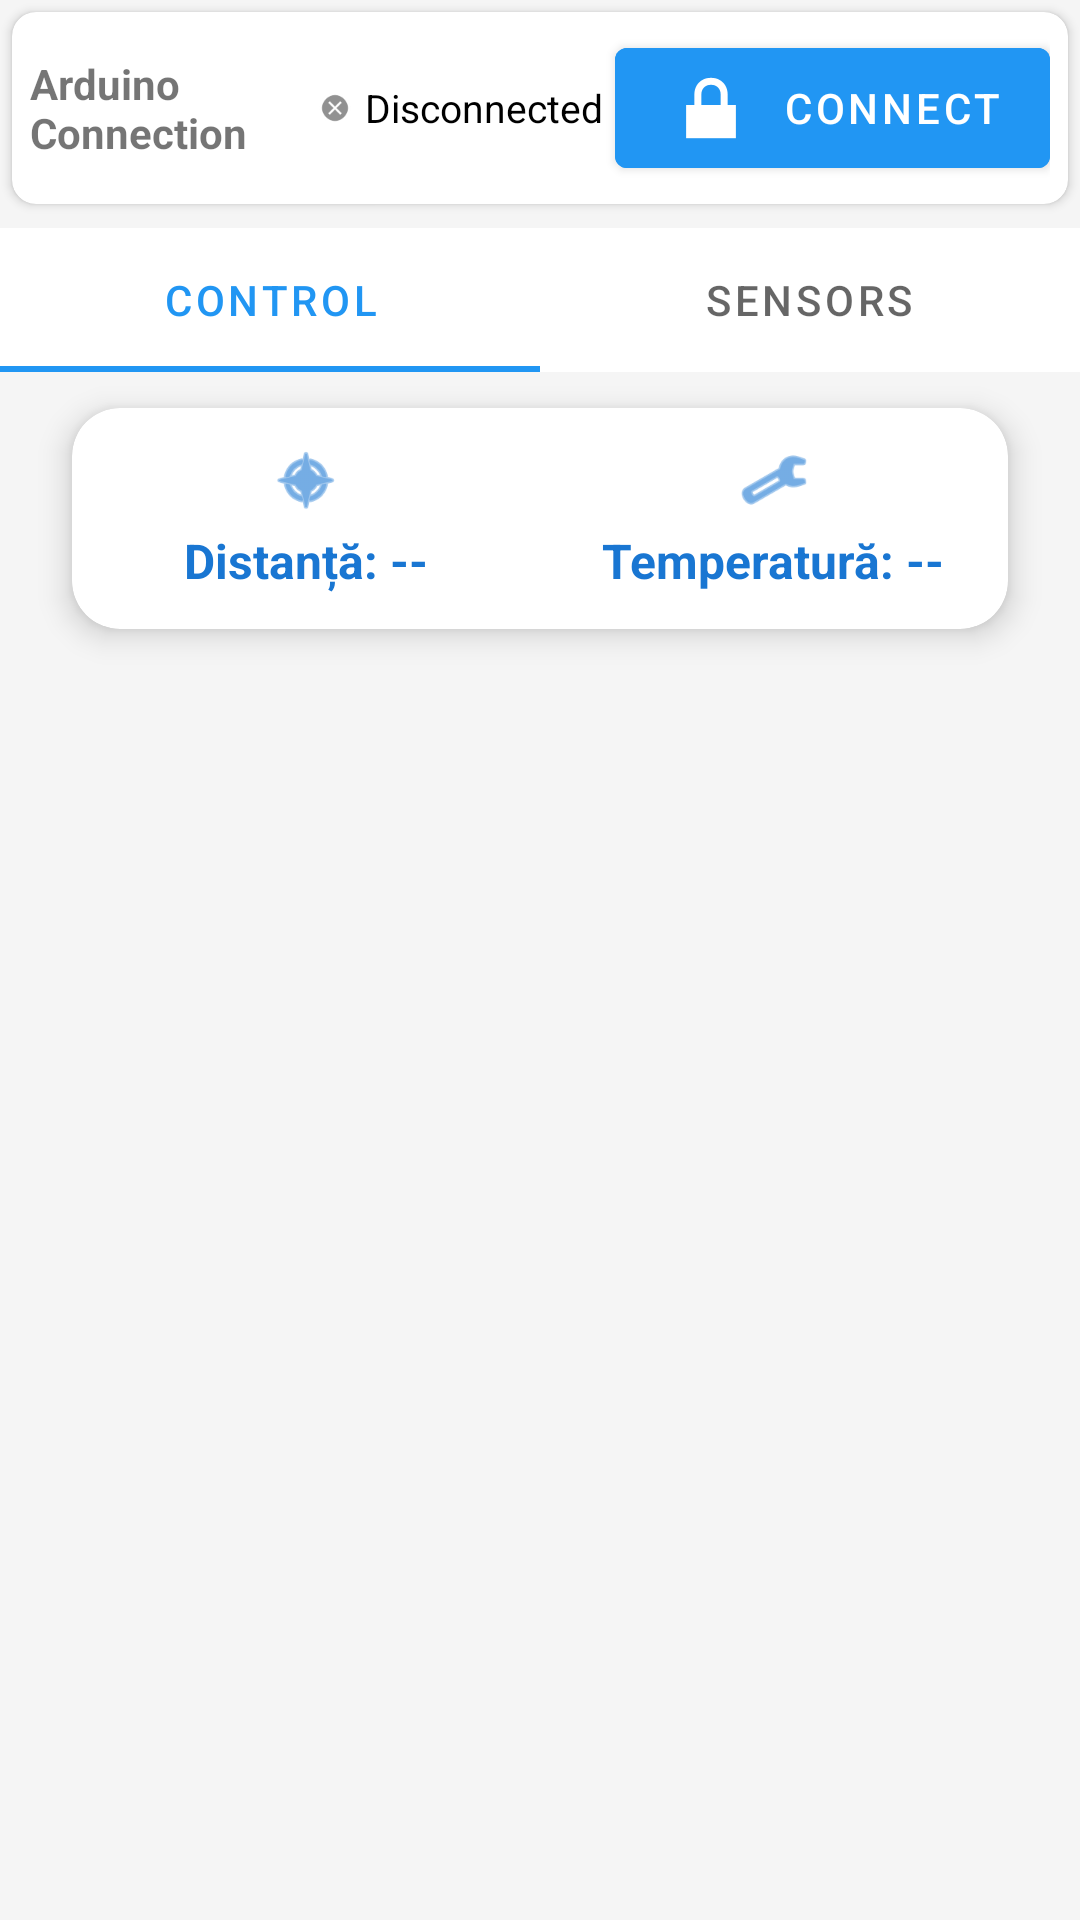

Named icons in this screenshot (1080*1920) and their centers, point (x, y):
manage: point (773, 480)
presence offline: point (335, 108)
